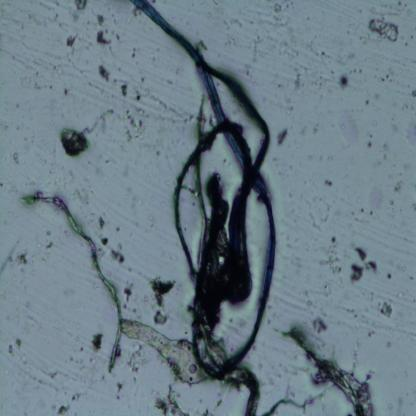Background material: (135, 80, 195, 132), (282, 36, 323, 99), (347, 243, 378, 283), (60, 125, 96, 158), (152, 385, 187, 414), (0, 237, 30, 270), (363, 121, 390, 157), (147, 277, 177, 307), (124, 108, 146, 144), (324, 237, 342, 280), (370, 16, 399, 42), (258, 0, 285, 27), (248, 40, 268, 76), (128, 351, 152, 379), (342, 112, 360, 148), (96, 105, 116, 135), (397, 112, 416, 143), (4, 330, 25, 356), (90, 325, 104, 352), (92, 27, 112, 45), (108, 246, 126, 264), (391, 177, 405, 199), (63, 30, 80, 48), (312, 316, 328, 334), (153, 309, 169, 327), (379, 300, 393, 320), (98, 62, 110, 82), (8, 149, 20, 167), (46, 224, 54, 251), (338, 73, 352, 88), (74, 0, 90, 13), (113, 382, 124, 400), (376, 71, 392, 83), (56, 402, 72, 414), (278, 128, 288, 147), (122, 284, 132, 302), (98, 232, 110, 247), (59, 83, 69, 99), (322, 175, 335, 186), (121, 83, 129, 100), (97, 216, 105, 230), (131, 43, 137, 61), (386, 270, 394, 282), (363, 98, 372, 106), (116, 29, 121, 41), (413, 88, 416, 99)
Cellulose filter fibre: (18, 191, 124, 372), (286, 330, 374, 416)
Cotton: (131, 0, 278, 378), (120, 318, 283, 416)
